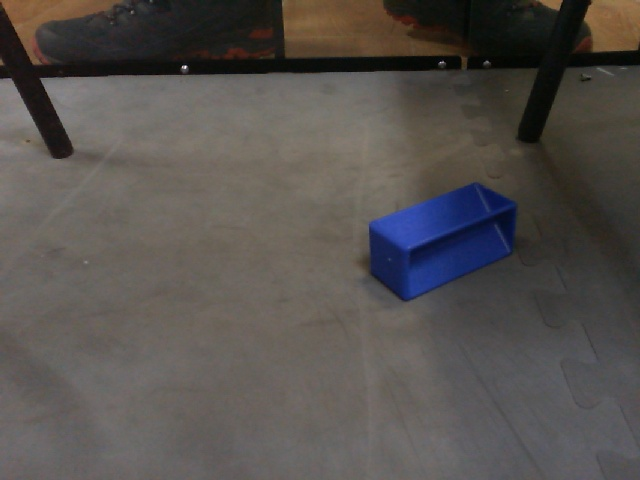BlueSample: (359, 180, 521, 302)
